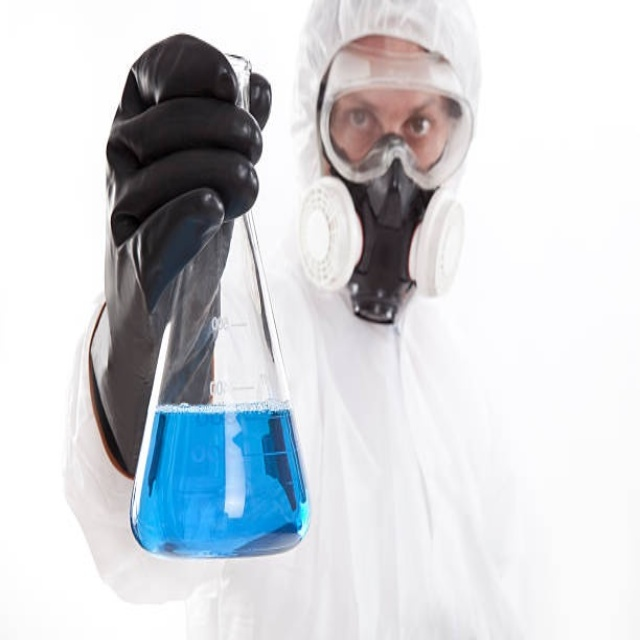Gafas: (320, 38, 474, 196)
Guantes: (94, 33, 270, 487)
Mascara: (296, 129, 472, 320)
